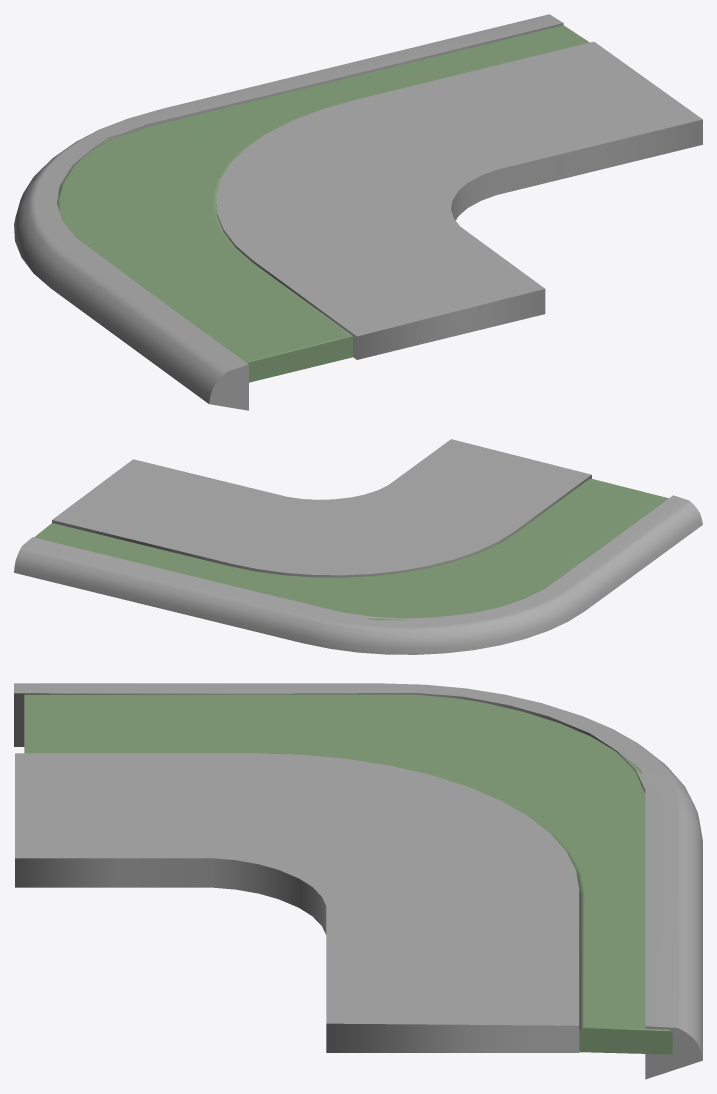
The model's file is sideWalk_corner_modular.fbx.
3 views of the same model, one above another, from view 1: azimuth 30°, elevation 25°; view 2: azimuth 150°, elevation 25°; view 3: azimuth 270°, elevation 25° (orthographic). The views are drawn at different scales.
Parts seen in each view (by area): view 1: cornerSidewalkModular; view 2: cornerSidewalkModular; view 3: cornerSidewalkModular.
Boxes of the visible parts, left/top/right/bottom form: cornerSidewalkModular: left=14, top=14, right=702, bottom=410; cornerSidewalkModular: left=14, top=439, right=702, bottom=654; cornerSidewalkModular: left=14, top=683, right=702, bottom=1079.
Size of the model in its own units: 914 by 68.44 by 747.
